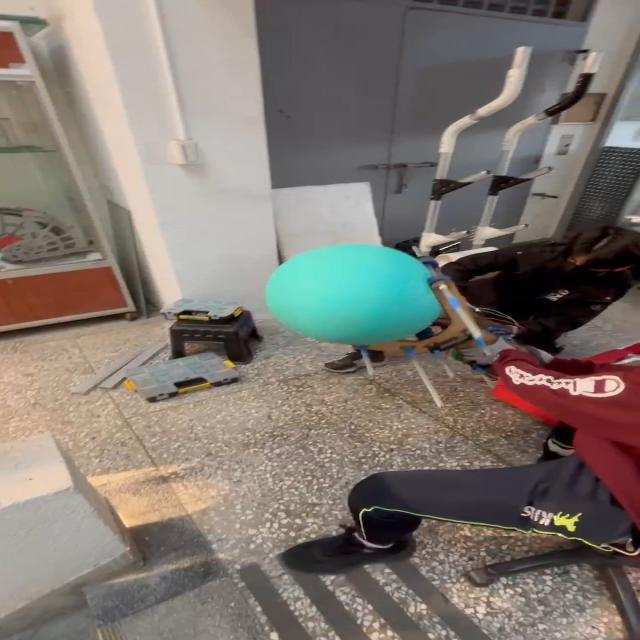ALGAE: (262, 242, 444, 346)
